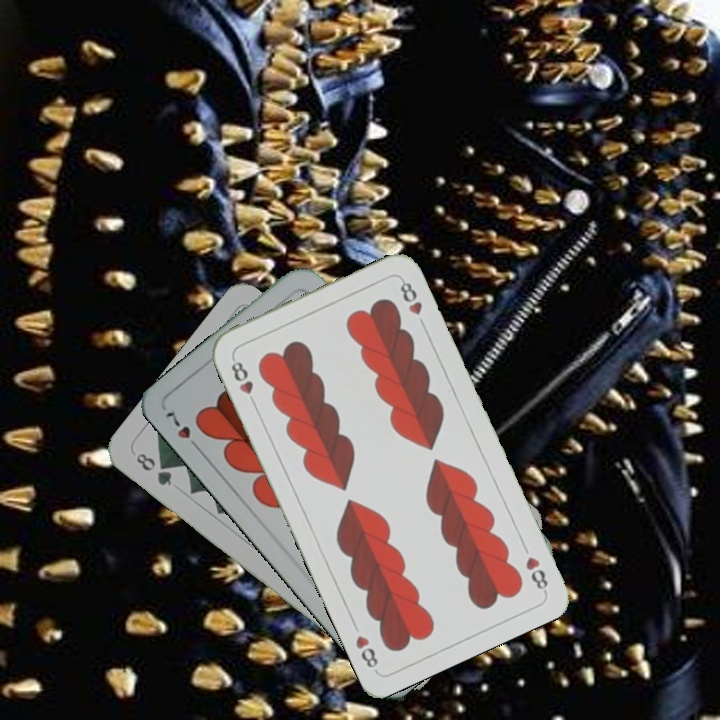G8: (131, 449, 175, 489)
H7: (161, 407, 204, 455)
H8: (227, 353, 260, 409), (521, 552, 551, 595)
